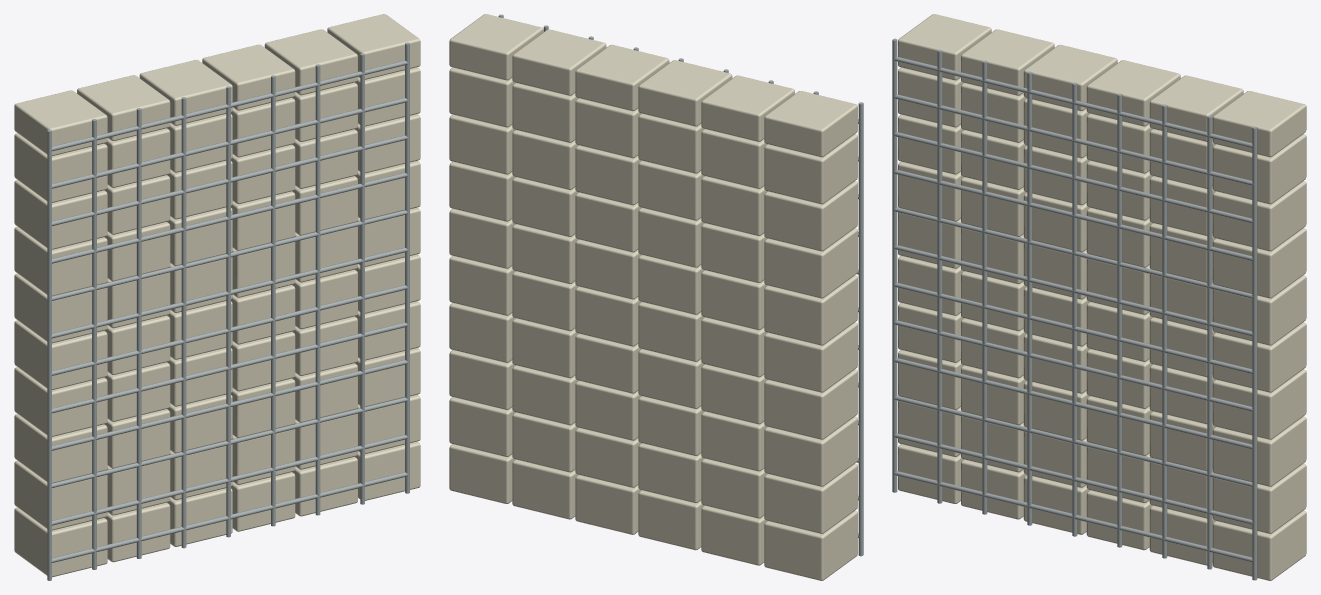
Rendered from fortified-compound-expansion-gabion-wire-wall-139dd786__27082.glb.
3 renders of one model, left to right at view 1: azimuth 30°, elevation 25°; view 2: azimuth 150°, elevation 25°; view 3: azimuth 330°, elevation 25°, orthographic.
Parts seen in each view (by area): view 1: gabion-wire-wall; view 2: gabion-wire-wall; view 3: gabion-wire-wall.
Boxes of the visible parts, x1,y1,x2,y2 form: gabion-wire-wall: [14, 14, 420, 580]; gabion-wire-wall: [449, 14, 863, 580]; gabion-wire-wall: [892, 14, 1306, 580].
Size of the model in its own units: 2.1 by 2.4 by 0.3726.
